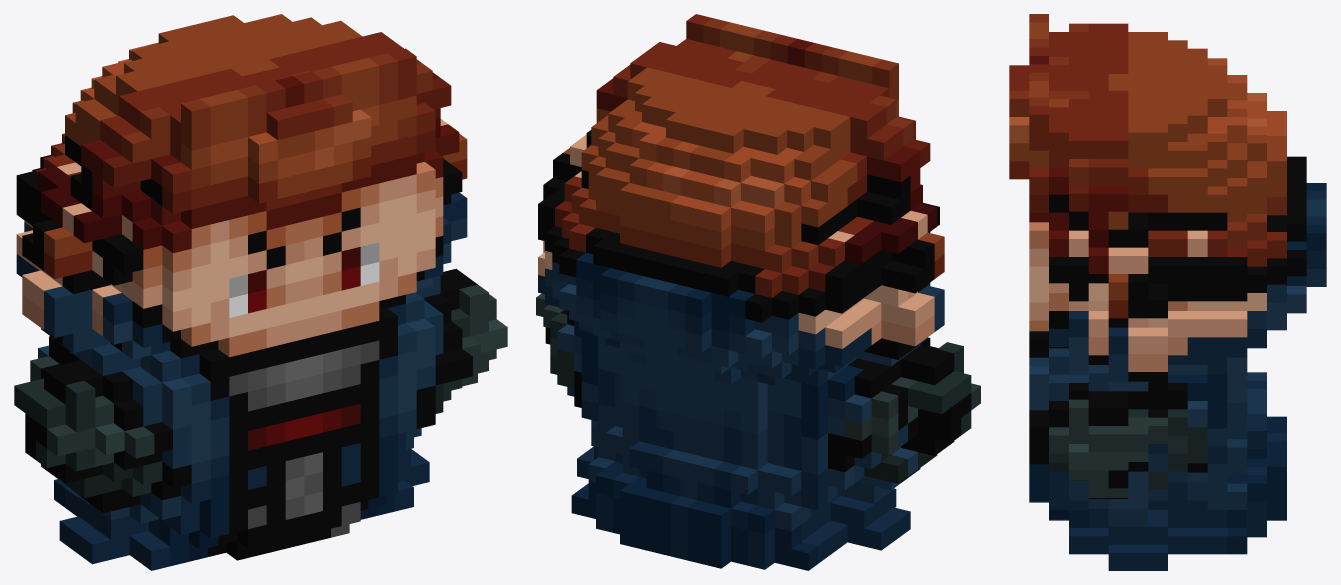
Rendered from Icon_751_01.obj.
3 renders of one model, left to right at view 1: azimuth 30°, elevation 25°; view 2: azimuth 150°, elevation 25°; view 3: azimuth 270°, elevation 25°, orthographic. The views are drawn at different scales.
Size of the model in its own units: 2.4 by 2.4 by 1.6.
1 material, 1 textured.
